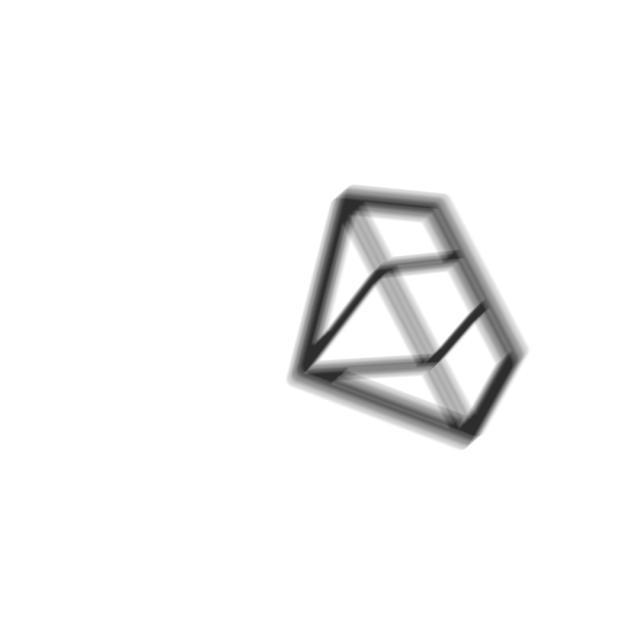diamond: (281, 178, 536, 461)
